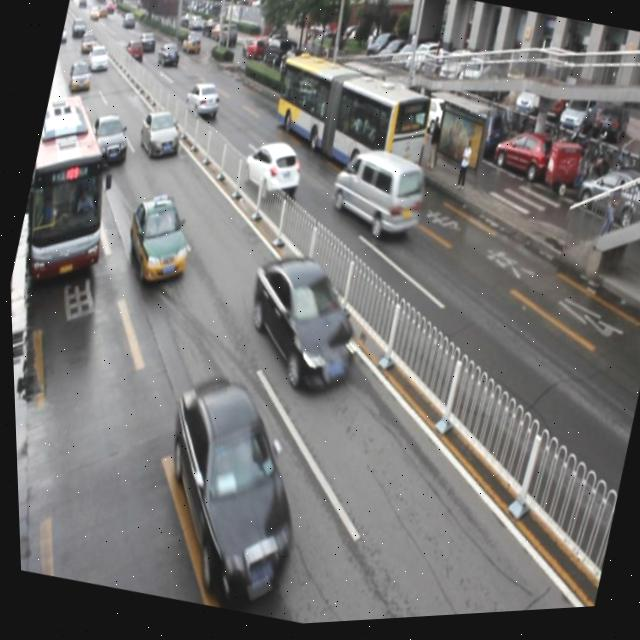car: (132, 366, 325, 608), (227, 244, 372, 408), (114, 185, 200, 297), (235, 137, 305, 208), (83, 109, 135, 170), (132, 106, 185, 165), (180, 81, 222, 125)
truck: (322, 143, 433, 252)
van: (257, 44, 442, 199), (4, 87, 133, 293)
